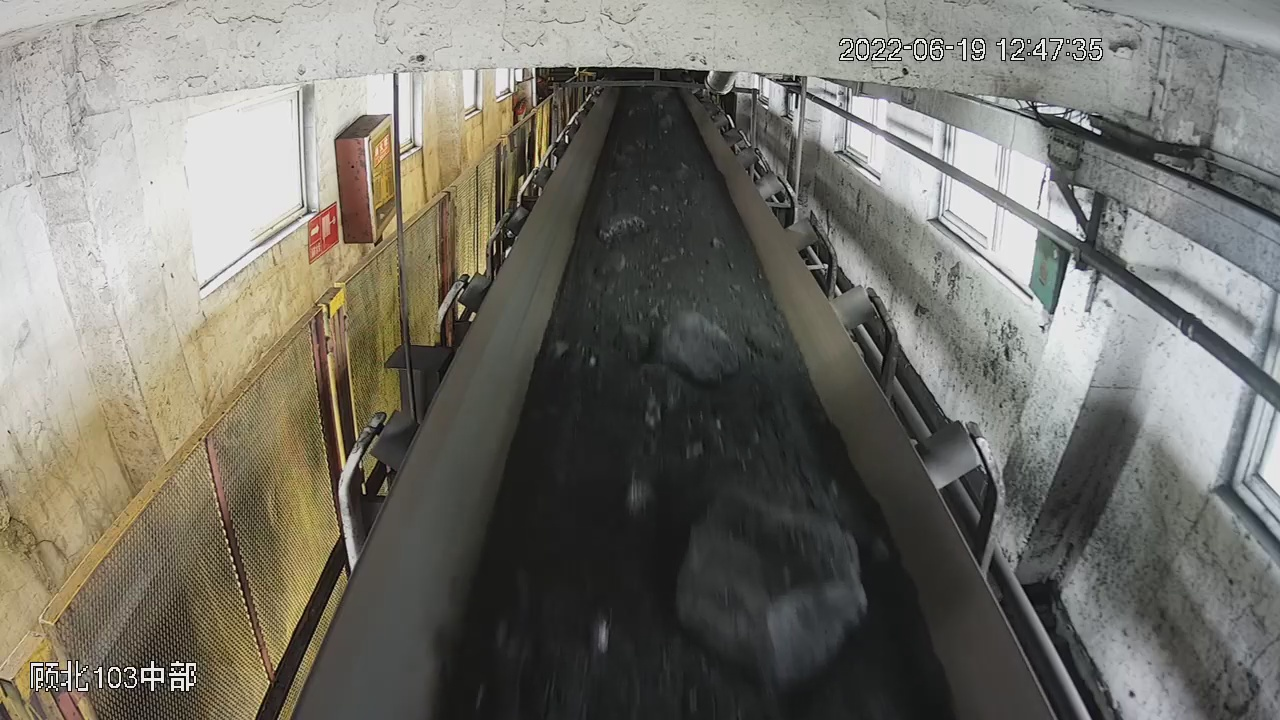gangue: (679, 488, 868, 696), (663, 310, 741, 380), (598, 212, 635, 235), (629, 474, 644, 509), (546, 338, 567, 356), (596, 620, 609, 649)
